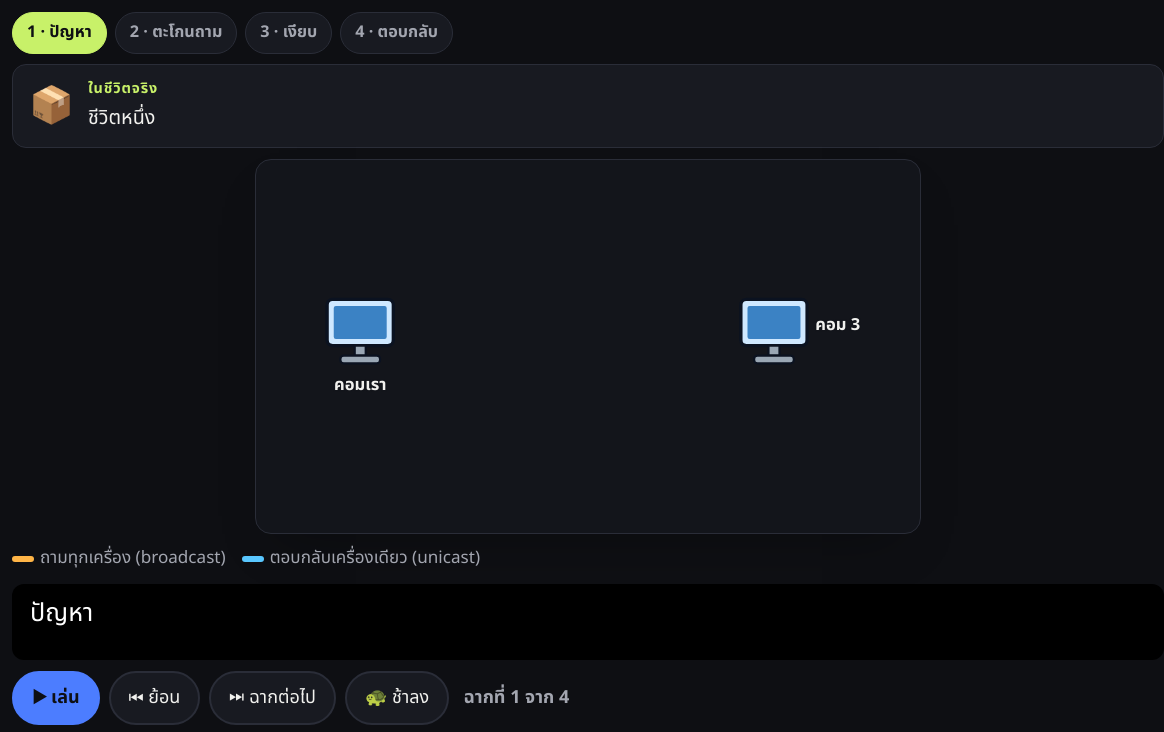
Test: ScenePlayer v2 › กดปุ่มฉากที่ 4 เห็น bubble และ trail ทันที กดย้อนไปฉาก 3 ไม่มีของฉาก 4 ค้าง
Click the button "4 · ตอบกลับ". click: (397, 33)
box: left=340, top=12, right=453, bottom=54
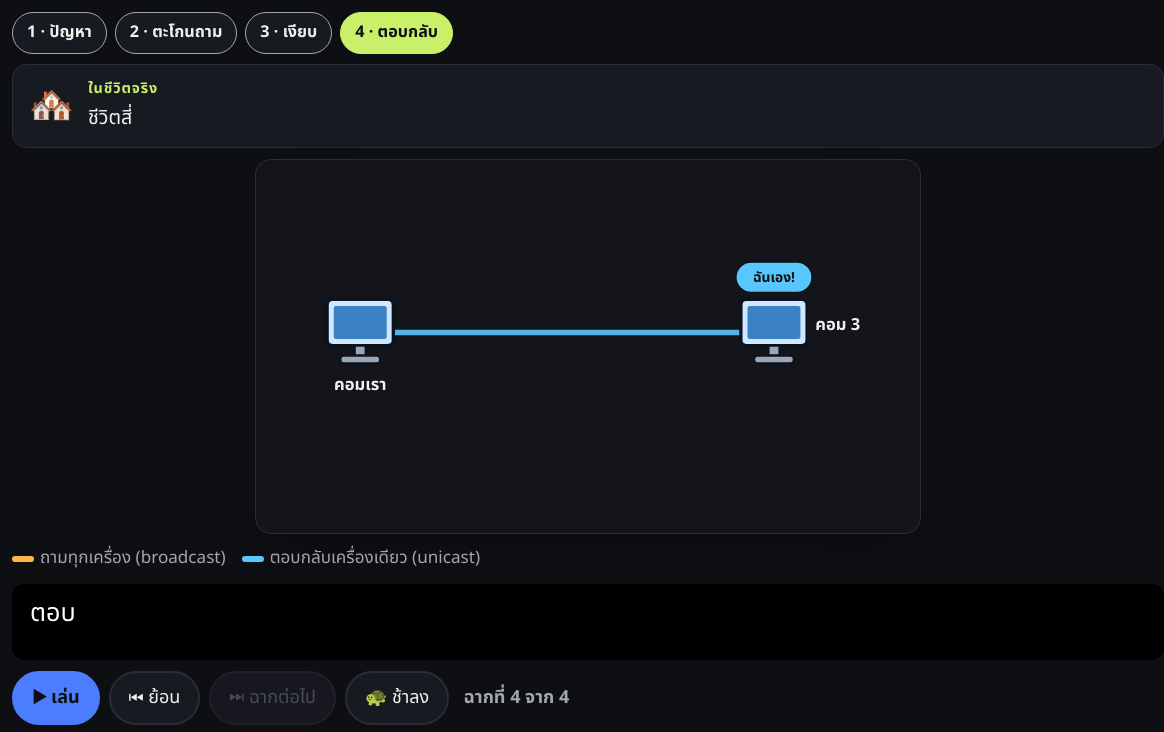
Expected: the text "ฉันเอง!" is shown, left=753, top=267, right=795, bottom=288
Expected: the text "ฉากที่ 4 จาก 4" is shown, left=464, top=683, right=569, bottom=713
Expected: the text "ชีวิตสี่" is shown, left=88, top=103, right=132, bottom=133
Click the button "⏮ ย้อน". click: (154, 698)
box: left=109, top=671, right=200, bottom=725
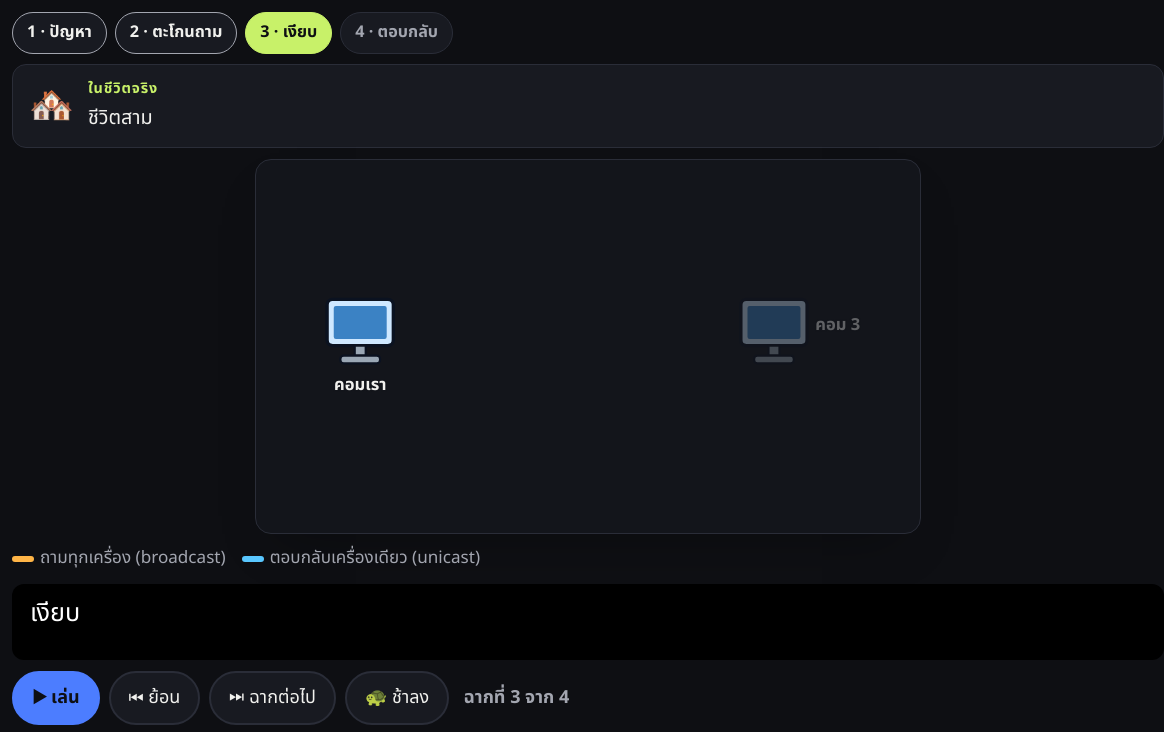
Expected: the text "ฉากที่ 3 จาก 4" is shown, left=464, top=683, right=569, bottom=713
Expected: the picture "ฉันเอง!" is gone
